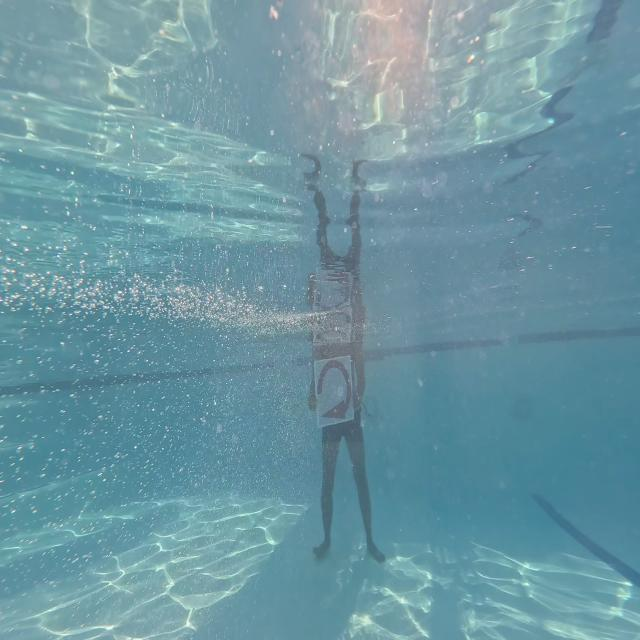red_side: (312, 353, 360, 433)
